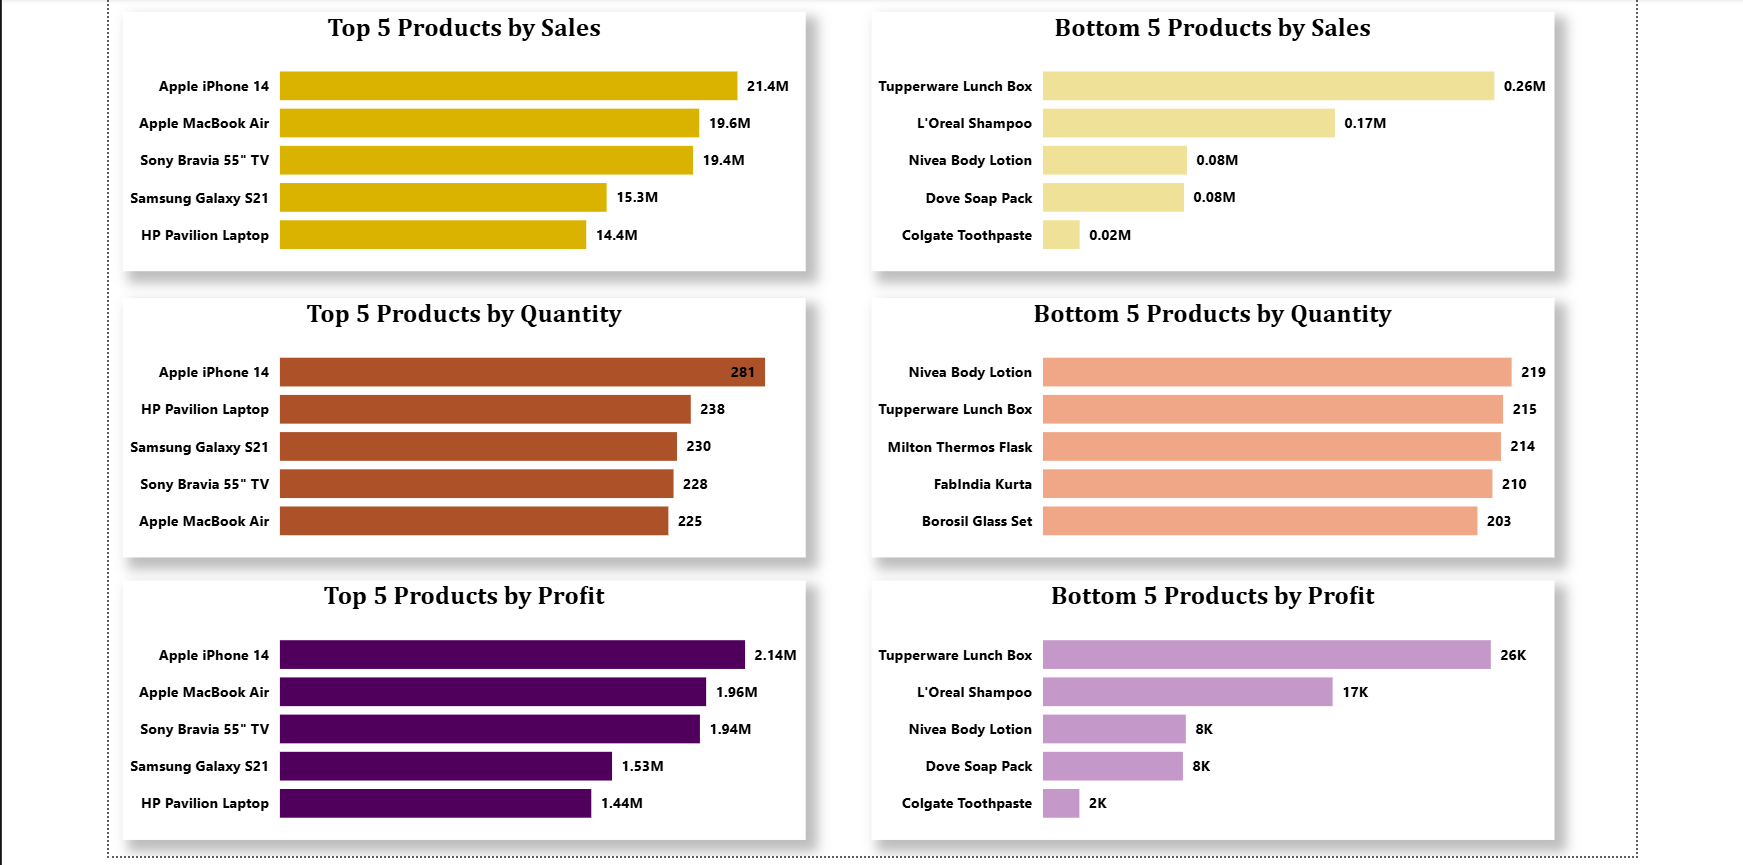

Layout of this report page (visuals, bound fields, positions):
{"tool":"powerbi","page":{"name":"Top/Bottom 5 Prod Analysis","canvas":[1280,720],"ordinal":0},"visuals":[{"type":"barChart","title":"Top 5 Products by Sales","fields":{"Category":["Dim Product.Product Name"],"Y":["Sum(Fact Table.Net Sales)"]},"box":[11.2,11.2,572.5,217.5],"z":0},{"type":"barChart","title":"Top 5 Products by Quantity","fields":{"Category":["Dim Product.Product Name"],"Y":["Sum(Fact Table.Units Sold)"]},"box":[11.2,251.2,572.5,217.5],"z":1000},{"type":"barChart","title":"Top 5 Products by Profit","fields":{"Category":["Dim Product.Product Name"],"Y":["Sum(Fact Table.Profit)"]},"box":[11.2,488.8,572.5,217.5],"z":2000},{"type":"barChart","title":"Bottom 5 Products by Sales","fields":{"Category":["Dim Product.Product Name"],"Y":["Sum(Fact Table.Net Sales)"]},"box":[640,11.2,572.5,217.5],"z":3000},{"type":"barChart","title":"Bottom 5 Products by Quantity","fields":{"Category":["Dim Product.Product Name"],"Y":["Sum(Fact Table.Units Sold)"]},"box":[640,251.2,572.5,217.5],"z":4000},{"type":"barChart","title":"Bottom 5 Products by Profit","fields":{"Category":["Dim Product.Product Name"],"Y":["Sum(Fact Table.Profit)"]},"box":[640,488.8,572.5,217.5],"z":5000}]}

Visuals, with their boxes on the page's 1280x720 design canvas (x1, y1, x2, y2). These are canvas units, not pixel positions in the 1743x865 screenshot, which may show the page scaled, cropped or inside an application window:
"Top 5 Products by Sales" barChart: (11, 11, 584, 229)
"Top 5 Products by Quantity" barChart: (11, 251, 584, 469)
"Top 5 Products by Profit" barChart: (11, 489, 584, 706)
"Bottom 5 Products by Sales" barChart: (640, 11, 1212, 229)
"Bottom 5 Products by Quantity" barChart: (640, 251, 1212, 469)
"Bottom 5 Products by Profit" barChart: (640, 489, 1212, 706)
